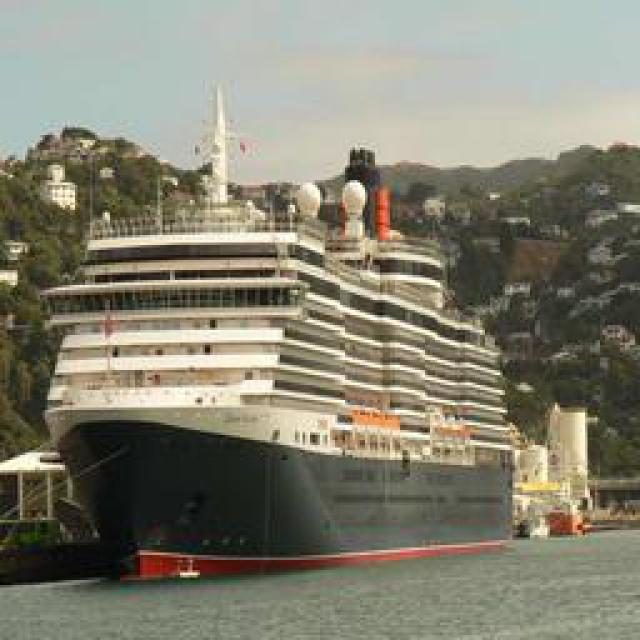Ship: (40, 106, 548, 569)
